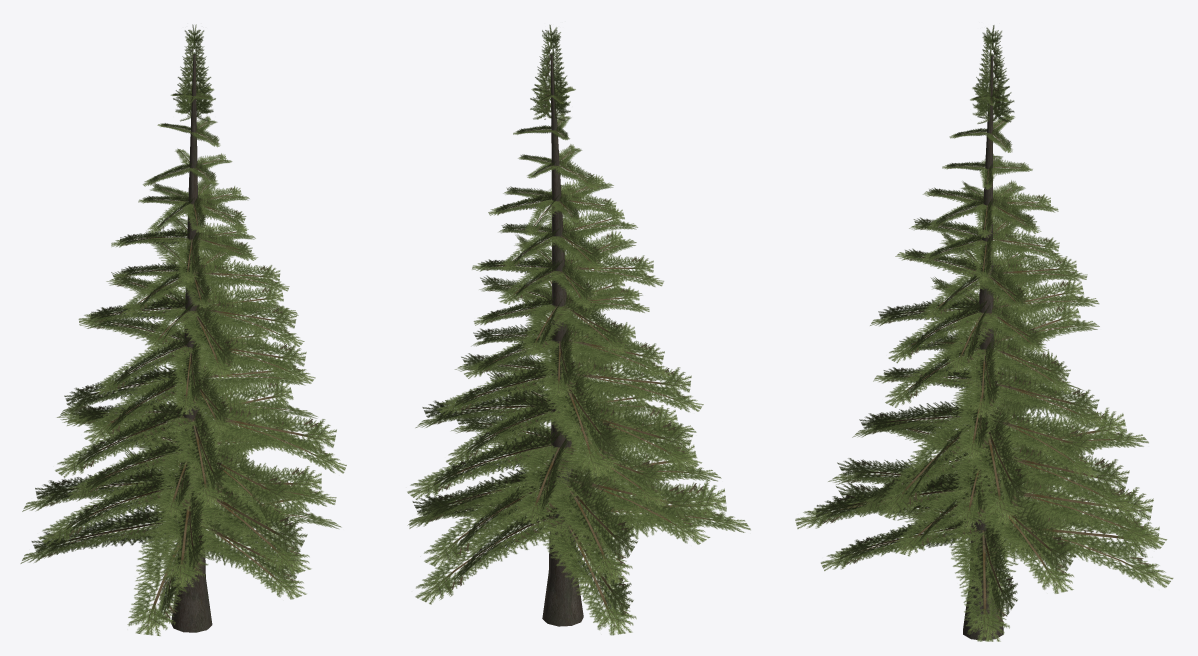
The model's file is fir_b.glb.
3 renders of one model, left to right at view 1: azimuth 30°, elevation 25°; view 2: azimuth 150°, elevation 25°; view 3: azimuth 270°, elevation 25°, orthographic. The views are drawn at different scales.
Parts seen in each view (by area): view 1: Foliage, Trunk, FoliageTip; view 2: Foliage, Trunk, FoliageTip; view 3: Foliage, Trunk, FoliageTip.
Boxes of the visible parts, box(x1,y1,x2,y2) form: Foliage: box(20, 86, 346, 635); Trunk: box(171, 54, 212, 632); FoliageTip: box(173, 24, 215, 121); Foliage: box(407, 85, 750, 635); Trunk: box(542, 54, 583, 626); FoliageTip: box(530, 24, 570, 121); Foliage: box(795, 87, 1173, 641); Trunk: box(963, 55, 1003, 640); FoliageTip: box(972, 25, 1014, 123).
Size of the model in its own units: 5.31 by 10.2 by 5.95.
Materials: 3 (3 with a texture image).
